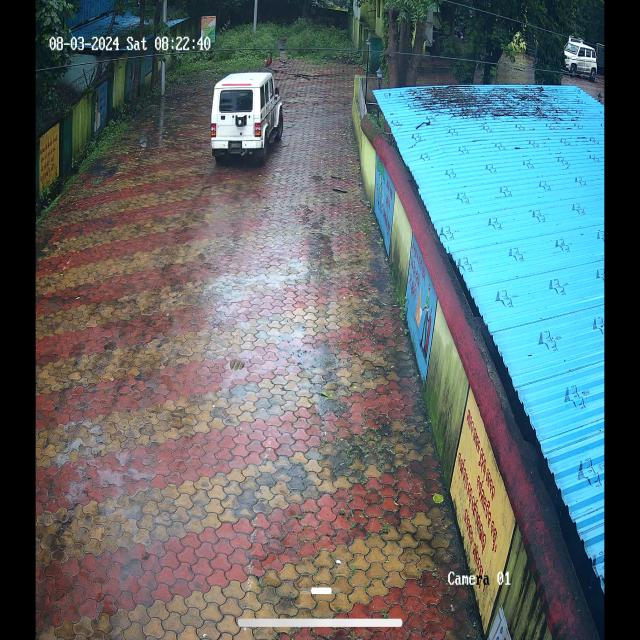light_vehicle: (207, 66, 285, 161)
